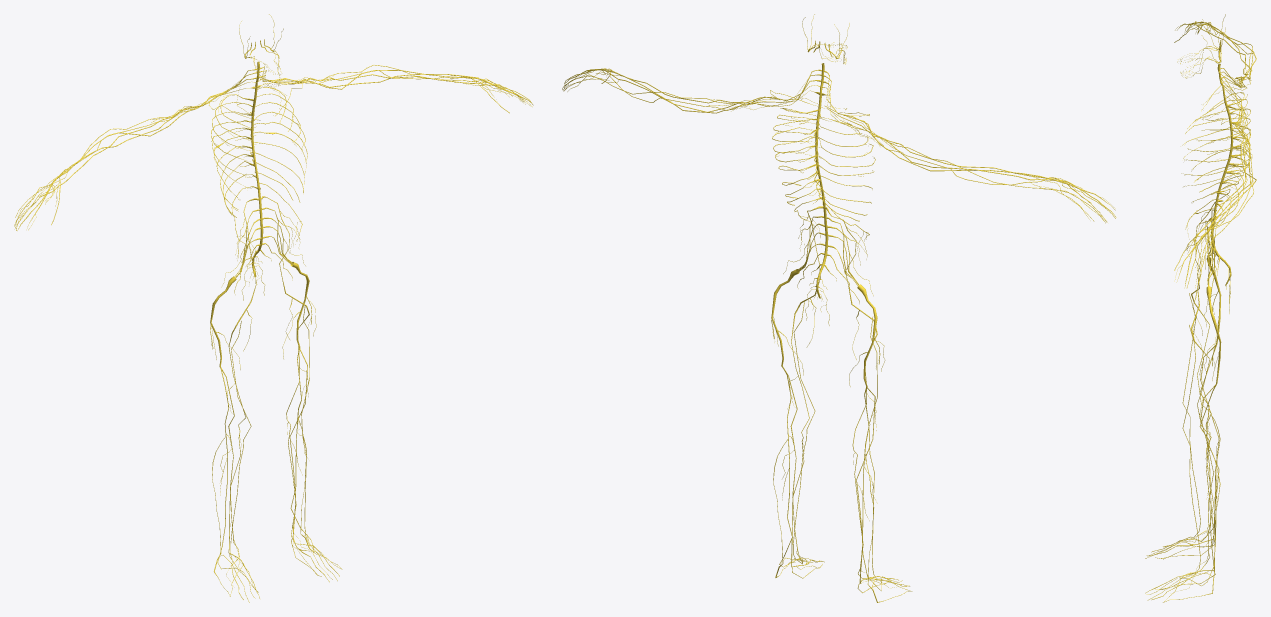
Rendered from 女性_神经系统_神经.fbx.
3 views of the same model, side by side, from view 1: azimuth 30°, elevation 25°; view 2: azimuth 150°, elevation 25°; view 3: azimuth 270°, elevation 25° (orthographic). The views are drawn at different scales.
Visible parts, largest first — view 1: 女性_神经系统_神经; view 2: 女性_神经系统_神经; view 3: 女性_神经系统_神经.
Boxes of the visible parts, x1,y1,x2,y2 form: 女性_神经系统_神经: [14, 14, 533, 602]; 女性_神经系统_神经: [562, 14, 1116, 602]; 女性_神经系统_神经: [1145, 14, 1256, 602].
Size of the model in its own units: 172 by 174 by 31.54.
